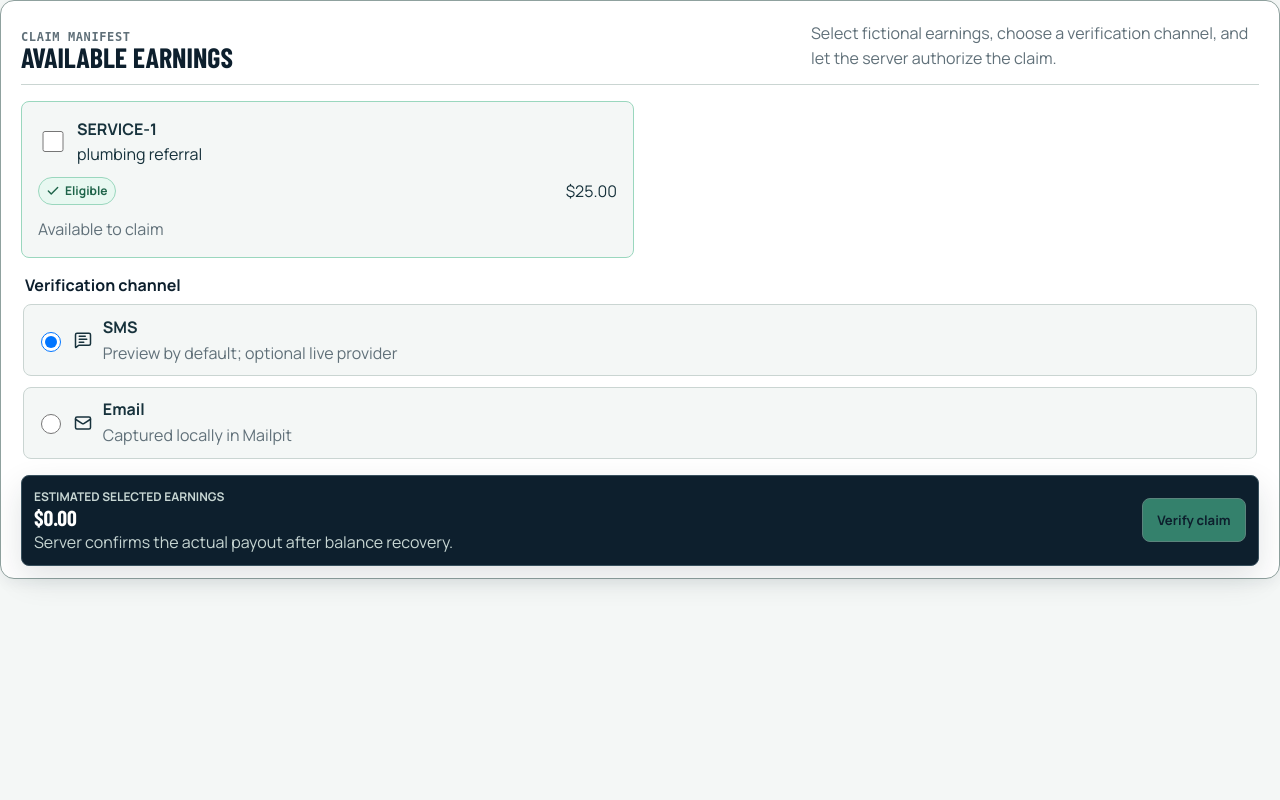
Test: ClaimFlow › shows provider queue status without leaking an OTP
This screenshot has width=1280, height=800.
Click the checkbox labelled "plumbing referral SERVICE-1": [53, 141] box [42,131,64,152]
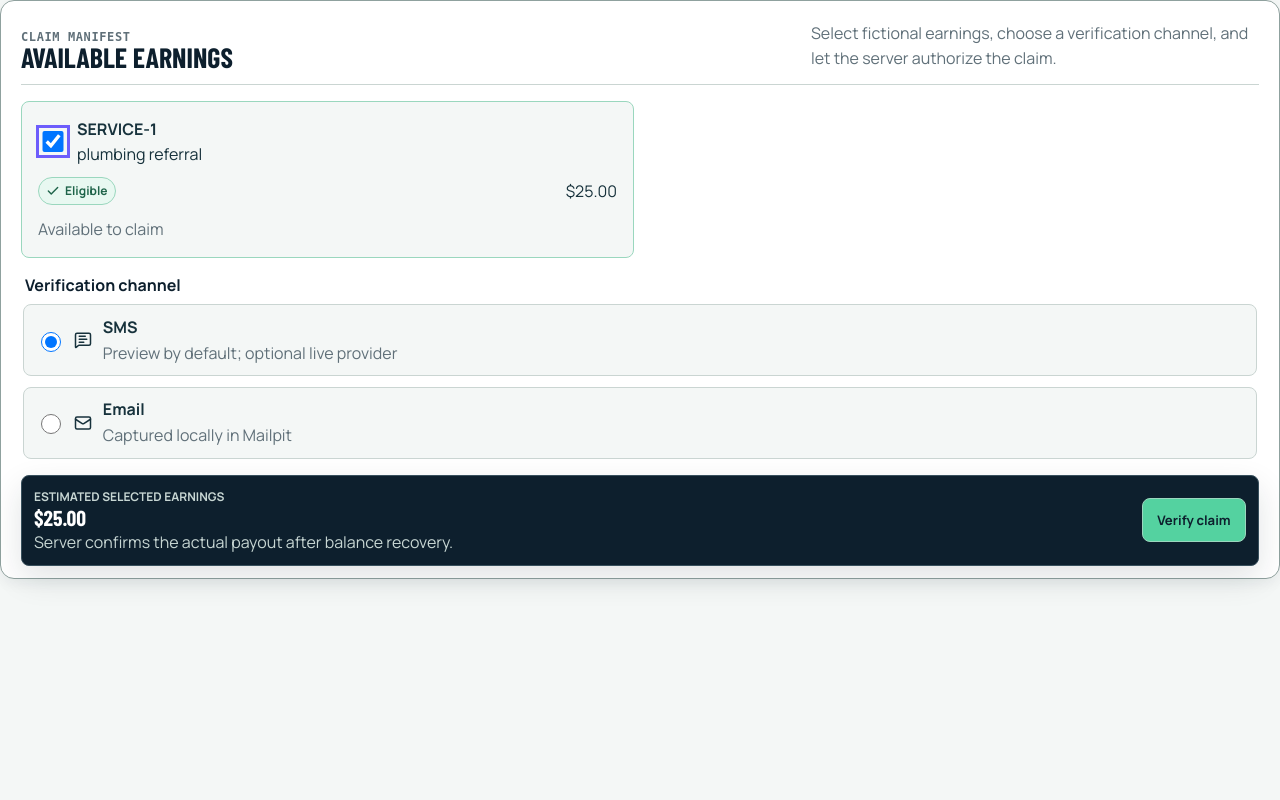
Click the button "Verify claim": [1194, 520] box [1142,498,1246,542]
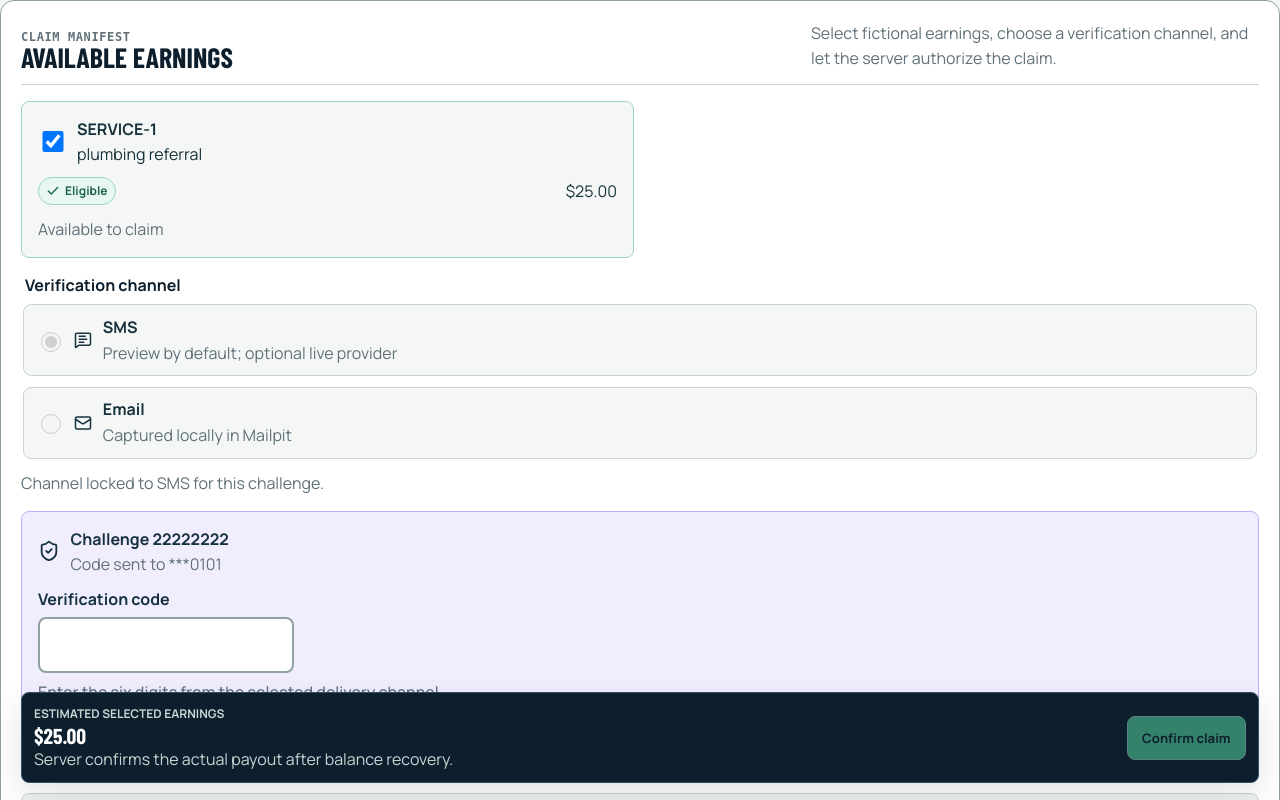
Expected: the field labelled "Verification code" is shown, [38,618,294,673]
Expected: the button "Confirm claim" is disabled, [1127,716,1246,760]
Expected: the number of buttons "Confirm claim" is 1, [1127,716,1246,760]
